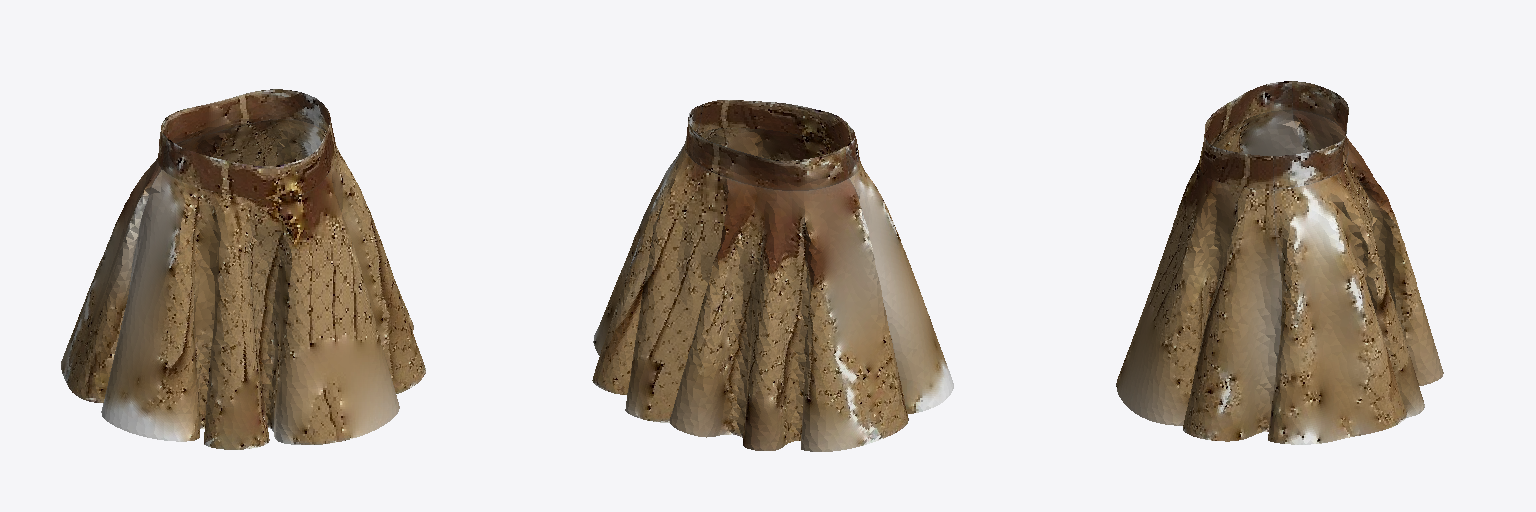
3 renders of one model, left to right at view 1: azimuth 30°, elevation 25°; view 2: azimuth 150°, elevation 25°; view 3: azimuth 270°, elevation 25°, orthographic.
Parts seen in each view (by area): view 1: Root_ClothPiece_Fabric_0_ClothPiece_3, Root_ClothPiece_Fabric_0_ClothPiece_2, Root_ClothPiece_Fabric_0_ClothPiece_1, Root_ClothPiece_Fabric_0_ClothPiece_0; view 2: Root_ClothPiece_Fabric_0_ClothPiece_2, Root_ClothPiece_Fabric_0_ClothPiece_3, Root_ClothPiece_Fabric_0_ClothPiece_0, Root_ClothPiece_Fabric_0_ClothPiece_1; view 3: Root_ClothPiece_Fabric_0_ClothPiece_2, Root_ClothPiece_Fabric_0_ClothPiece_3, Root_ClothPiece_Fabric_0_ClothPiece_1, Root_ClothPiece_Fabric_0_ClothPiece_0.
Boxes of the visible parts, <box> form: Root_ClothPiece_Fabric_0_ClothPiece_3: <box>101,146,425,449</box>; Root_ClothPiece_Fabric_0_ClothPiece_2: <box>61,119,413,402</box>; Root_ClothPiece_Fabric_0_ClothPiece_1: <box>162,109,336,198</box>; Root_ClothPiece_Fabric_0_ClothPiece_0: <box>158,89,329,168</box>; Root_ClothPiece_Fabric_0_ClothPiece_2: <box>592,144,908,451</box>; Root_ClothPiece_Fabric_0_ClothPiece_3: <box>698,128,953,413</box>; Root_ClothPiece_Fabric_0_ClothPiece_0: <box>684,104,848,190</box>; Root_ClothPiece_Fabric_0_ClothPiece_1: <box>697,100,860,177</box>; Root_ClothPiece_Fabric_0_ClothPiece_2: <box>1268,110,1443,444</box>; Root_ClothPiece_Fabric_0_ClothPiece_3: <box>1116,110,1303,441</box>; Root_ClothPiece_Fabric_0_ClothPiece_1: <box>1199,81,1291,189</box>; Root_ClothPiece_Fabric_0_ClothPiece_0: <box>1274,81,1348,189</box>.
Bounding box in the file's own units: 0.6131 × 0.4917 × 0.5368.
4 materials, 1 textured.